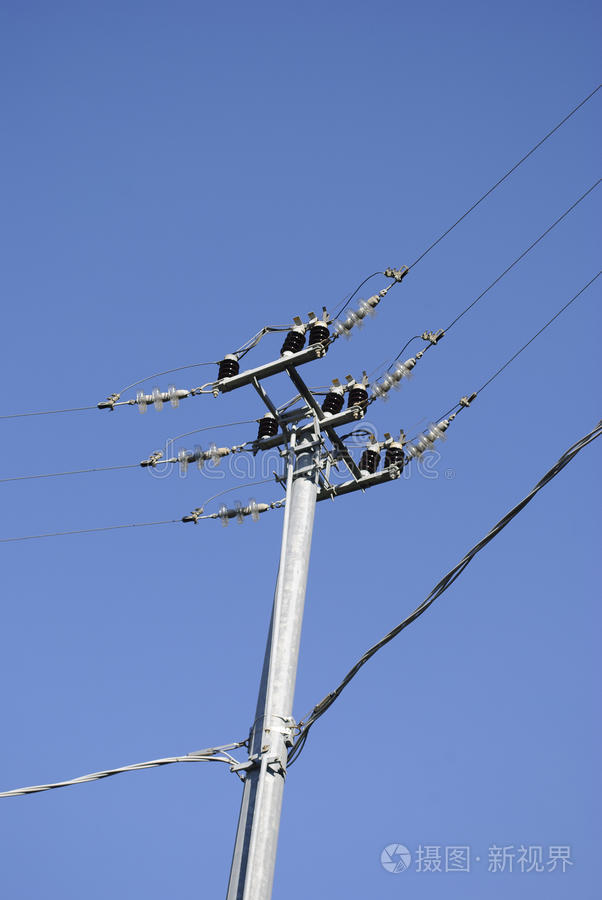insulator: (370, 356, 413, 404), (213, 491, 268, 528), (404, 417, 448, 462), (332, 298, 373, 342), (133, 381, 187, 414), (175, 443, 222, 475)
